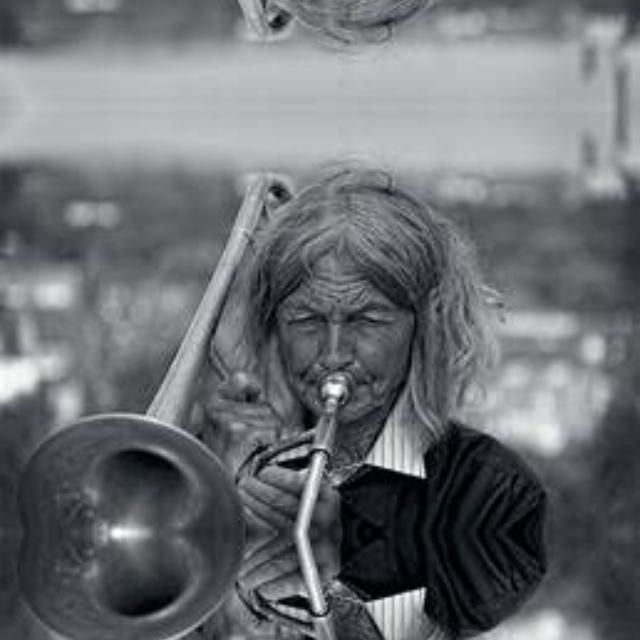person: (192, 175, 480, 529), (192, 537, 480, 640), (192, 0, 480, 37)
